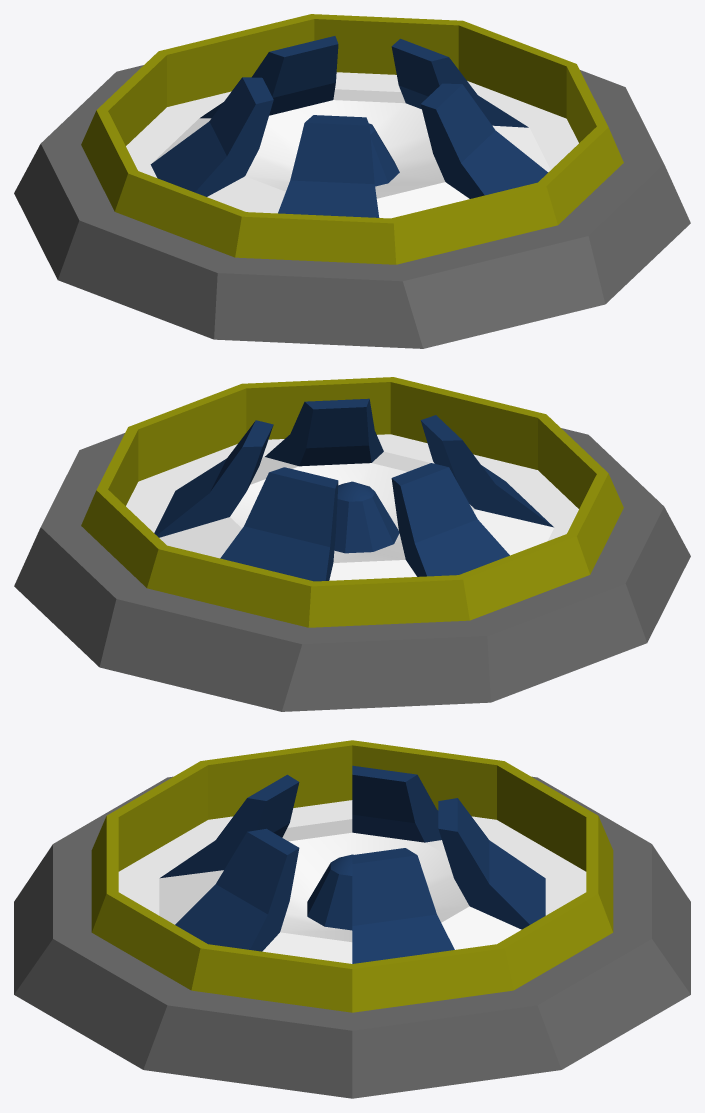
The model's file is BeTele.fbx.
3 renders of one model, top to bottom at view 1: azimuth 30°, elevation 25°; view 2: azimuth 150°, elevation 25°; view 3: azimuth 270°, elevation 25°, orthographic. The views are drawn at different scales.
Visible parts, largest first — view 1: pCylinder1; view 2: pCylinder1; view 3: pCylinder1.
Part boxes in pixels (<box>): pCylinder1: <box>14,14,690,348</box>; pCylinder1: <box>14,377,690,711</box>; pCylinder1: <box>14,740,690,1098</box>.
Bounding box in the file's own units: 3.4 × 0.703 × 3.23.
